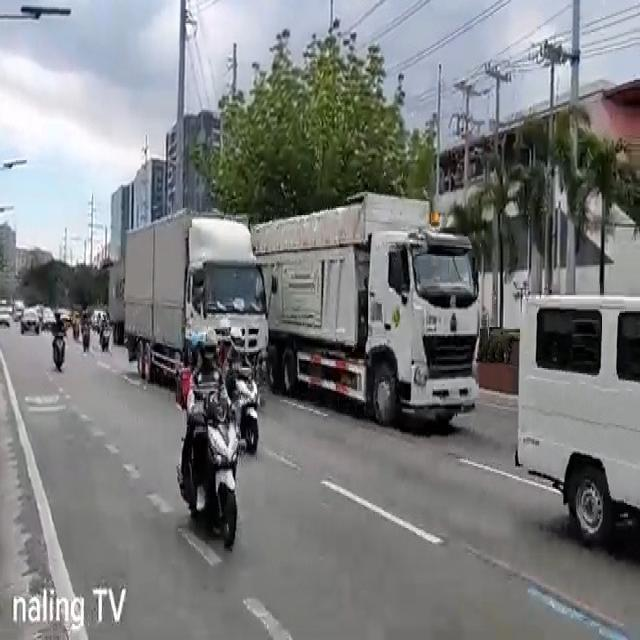motorcycle: (172, 328, 240, 554), (222, 320, 260, 456)
truck: (250, 190, 482, 436), (124, 212, 272, 402)
